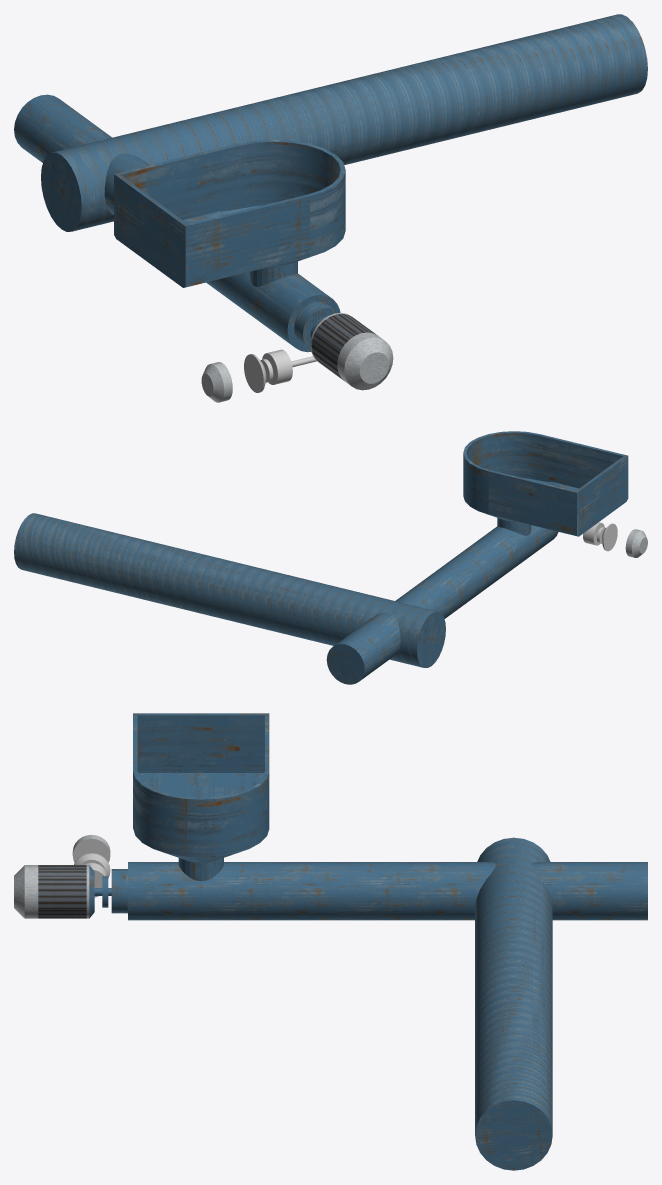
Rendered from 外加籽料.glb.
The picture shows the model from 3 angles, top to bottom: view 1: azimuth 30°, elevation 25°; view 2: azimuth 150°, elevation 25°; view 3: azimuth 270°, elevation 25°; orthographic projection. The views are drawn at different scales.
Parts seen in each view (by area): view 1: root.006, root, root.007, root.008, root.003, root.004; view 2: root.006, root, root.003, root.004; view 3: root.006, root, root.008, root.007, root.003.
Boxes of the visible parts, box(x1,y1,x2,y2) form: root.006: box(14, 14, 647, 352); root: box(114, 139, 345, 287); root.007: box(310, 312, 393, 390); root.008: box(311, 314, 377, 380); root.003: box(244, 349, 316, 392); root.004: box(201, 354, 265, 402); root.006: box(14, 478, 558, 684); root: box(463, 431, 628, 536); root.003: box(583, 522, 617, 551); root.004: box(602, 523, 647, 557); root.006: box(89, 837, 647, 1170); root: box(133, 713, 269, 857); root.008: box(38, 865, 86, 918); root.007: box(14, 865, 89, 918); root.003: box(72, 838, 110, 897).
Bounding box in the file's own units: 4.53 × 1.13 × 4.08.
Materials: 5 (4 with a texture image).
